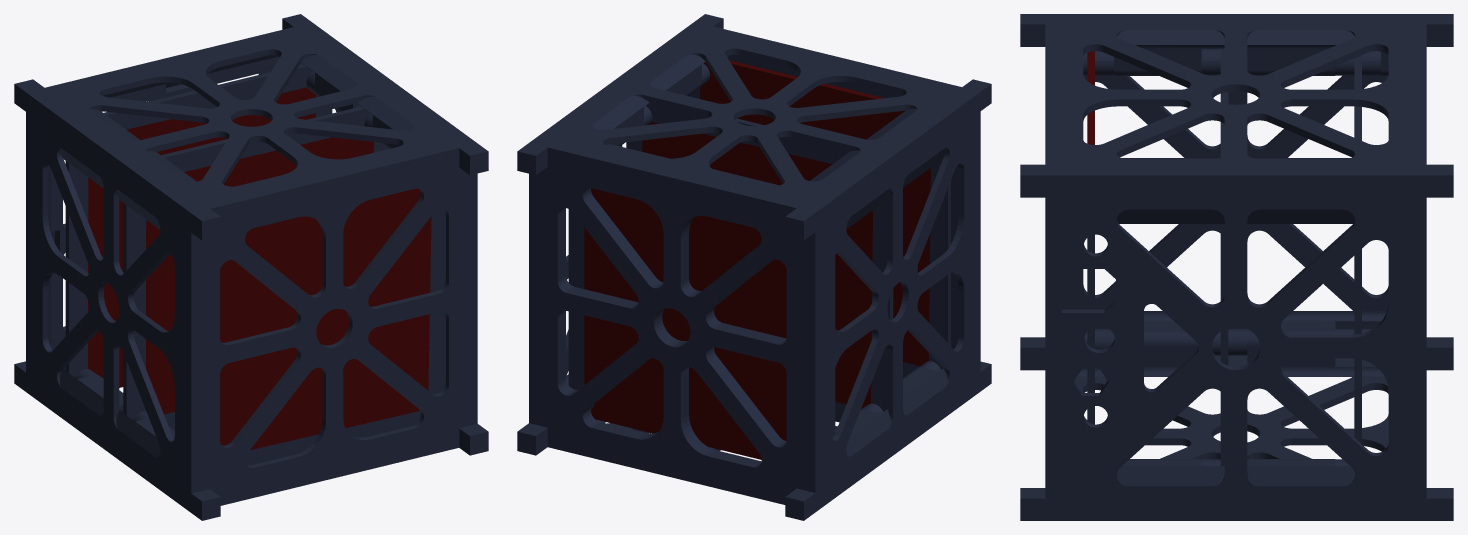
File: cubesat.dae
The picture shows the model from 3 angles, left to right: view 1: azimuth 30°, elevation 25°; view 2: azimuth 150°, elevation 25°; view 3: azimuth 270°, elevation 25°; orthographic projection. The views are drawn at different scales.
Visible parts, largest first — view 1: CubesatSTL; view 2: CubesatSTL; view 3: CubesatSTL.
Part boxes in pixels (x1,y1,x2,y2): CubesatSTL: [14, 14, 488, 520]; CubesatSTL: [517, 14, 991, 520]; CubesatSTL: [1020, 14, 1453, 520].
Size of the model in its own units: 1 by 1.14 by 1.
